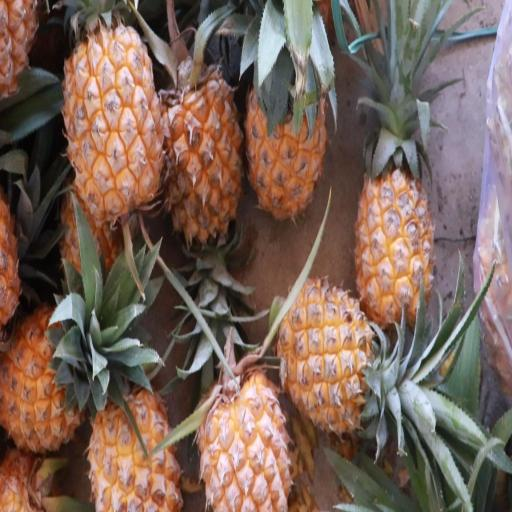Pineapple - v8 v1: (62, 7, 170, 240), (351, 94, 438, 336), (154, 46, 248, 250), (278, 278, 390, 444), (242, 24, 329, 226), (195, 358, 295, 512), (0, 291, 89, 459), (87, 377, 187, 512)
